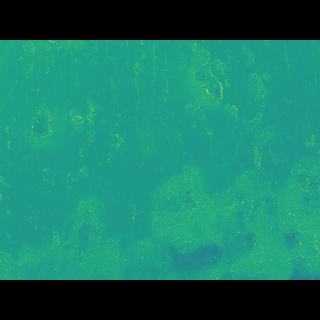Loch: (0, 151, 320, 250), (173, 75, 277, 148)
